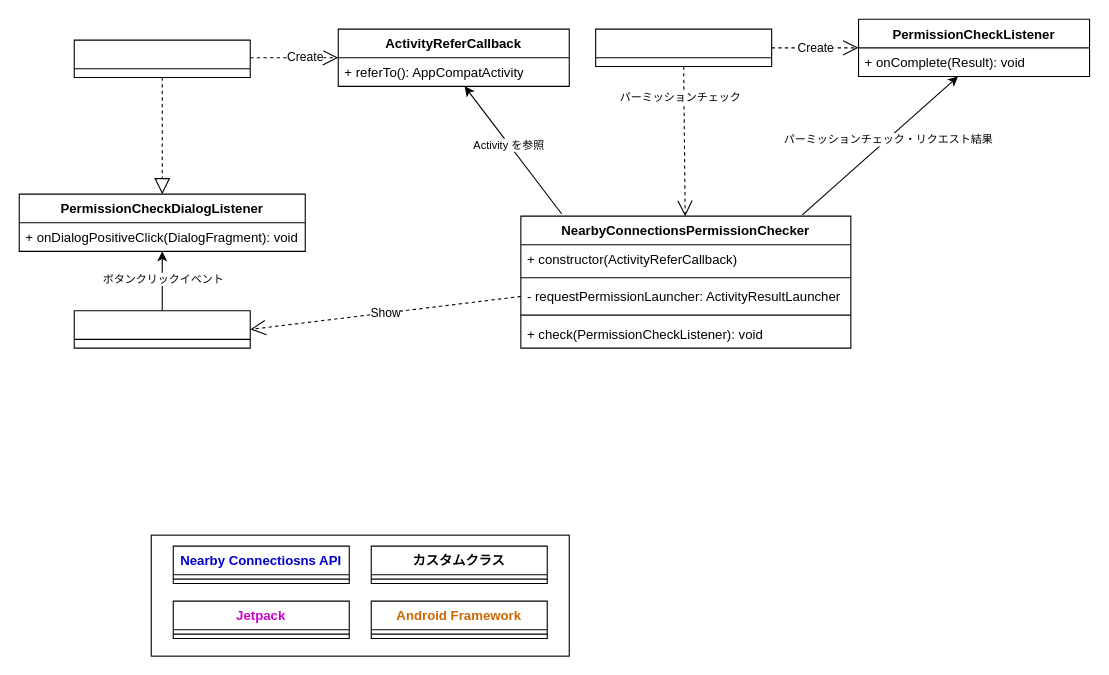
This 1109x675 diagram has some shape labels left out. Each missing label, with the centre of its shape:
MainActivity: (161,58)
MainViewModel: (683,47)
PermissionCheckDialog: (161,329)
